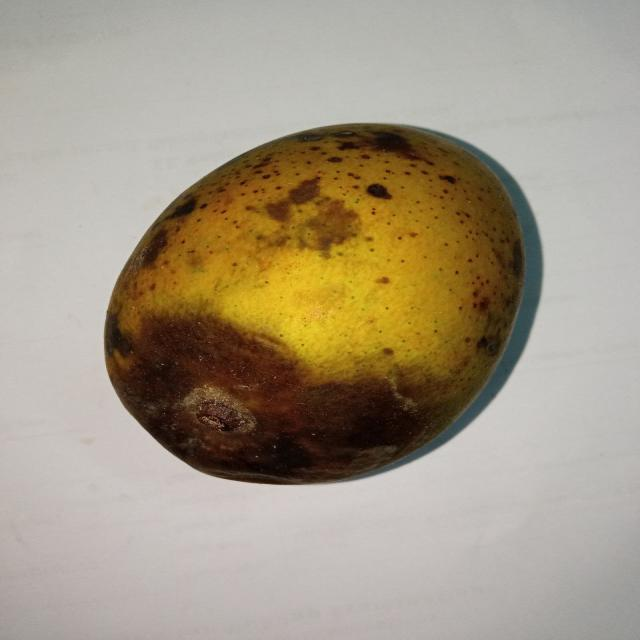rotten_mango: (101, 122, 523, 482)
